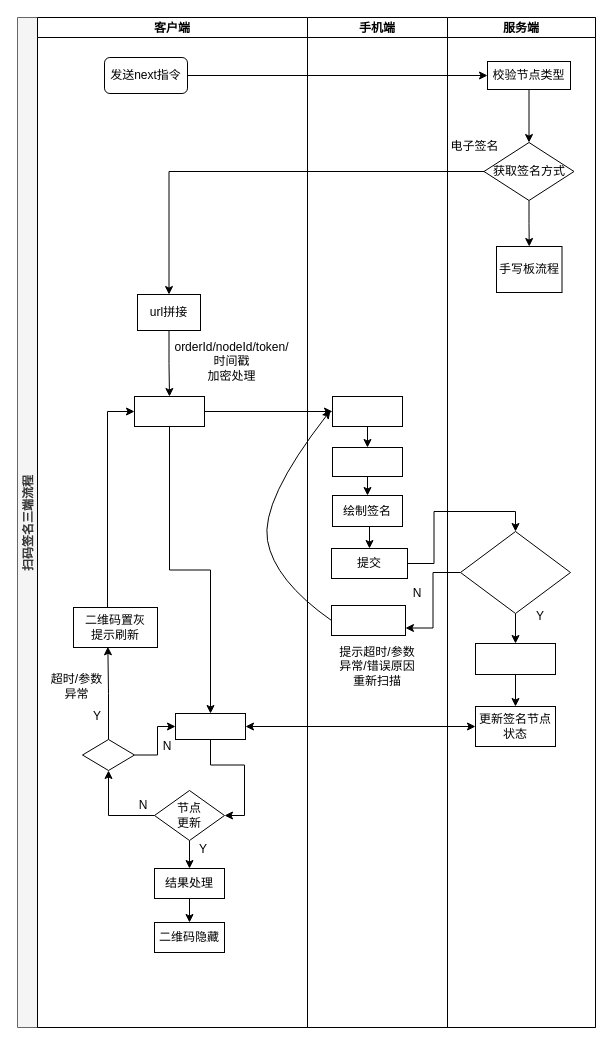
Image size: 613x1045. Some labels were removed from this diagram. The shapes that lost their labels are listed below. From the top down, each one's centre as x and y in pixels, then its label:
[169,411]: 生成二维码
[367,411]: 扫码打开二维码
[367,461]: 参数解码
[515,572]: 校验/ 签名保存 minio
[368,620]: 异常处理
[515,658]: 质检结果回写
[210,726]: 轮询
[108,754]: 异常
